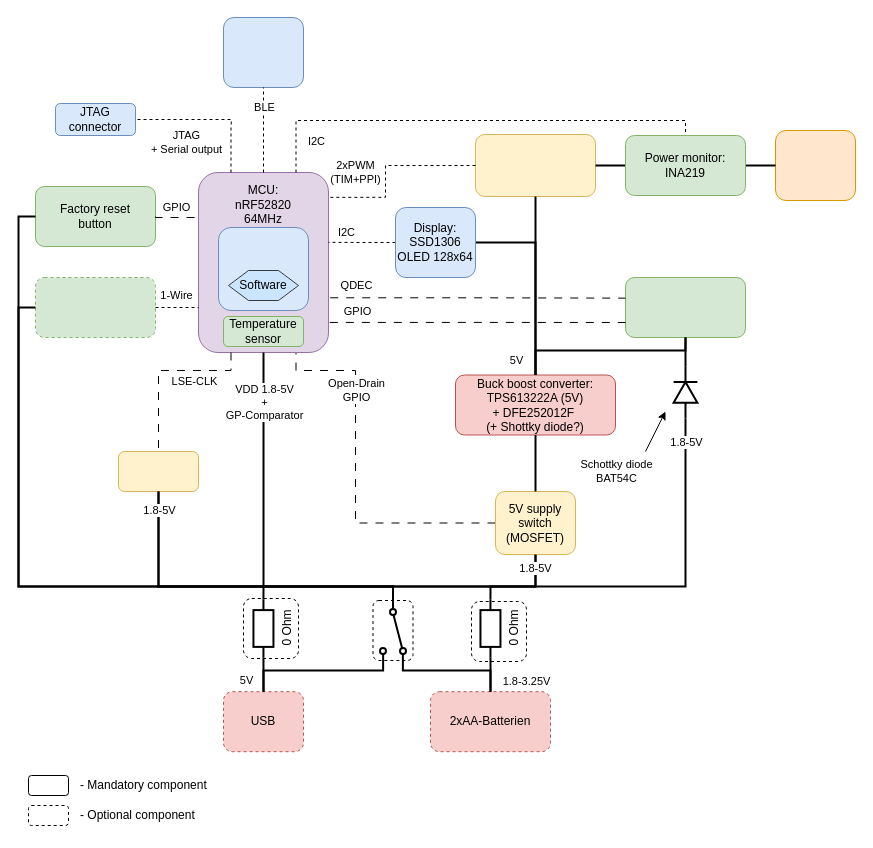
This 873x848 diagram has some shape labels left out. The shapes that lost their labels are listed below. From the top down, each one's box as (x1, y1, x2, y2) in pixels, then its label:
(222, 16, 304, 88): 2.4MHz PCB antenna
(474, 134, 596, 196): DC motor driver: DRV8837
(774, 130, 856, 200): DC motor: JS-30
(218, 226, 308, 310): Flash 256kB
(34, 276, 156, 338): Temperature sensor: MY18E20
(624, 276, 746, 338): Rotary encoder (+ button)
(118, 450, 198, 492): CLK: 32kHz
